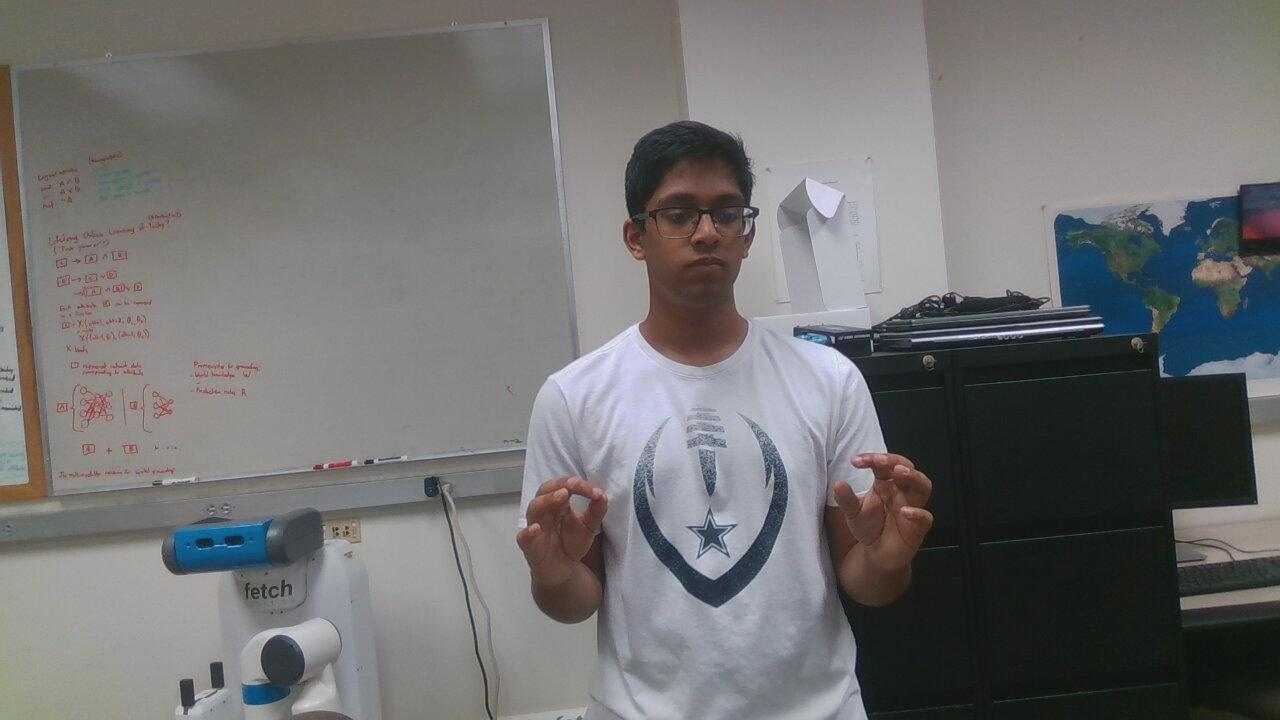hands: (804, 428, 946, 606), (496, 448, 644, 616)
